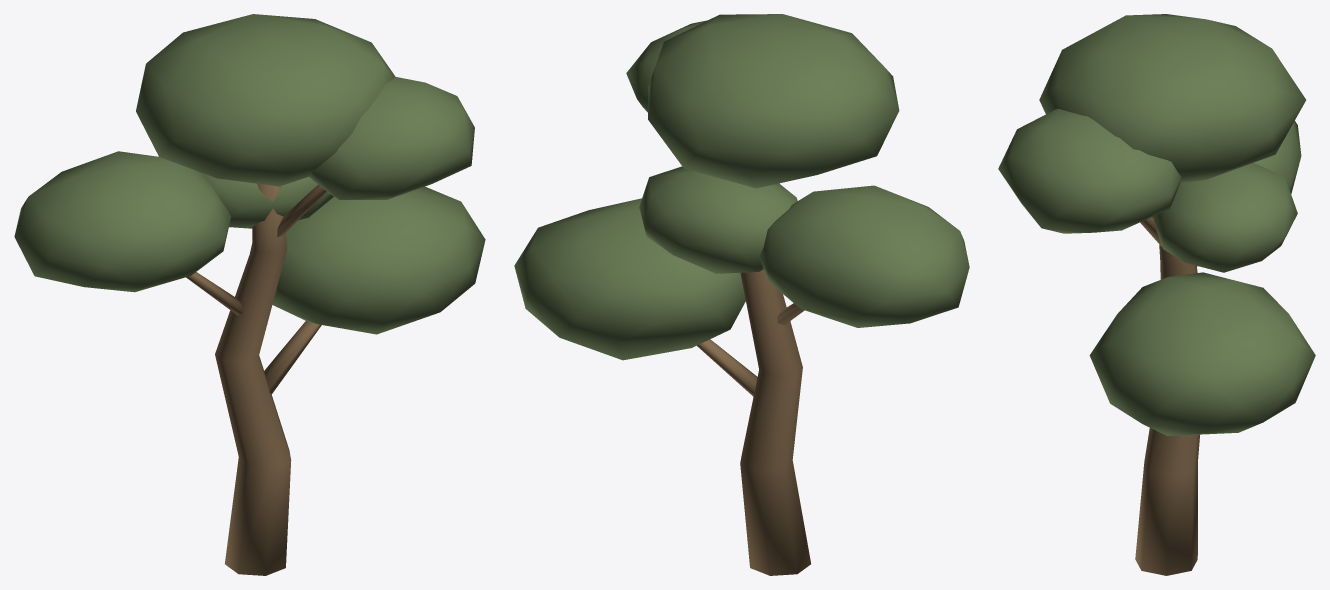
File: juniper.glb
3 renders of one model, left to right at view 1: azimuth 30°, elevation 25°; view 2: azimuth 150°, elevation 25°; view 3: azimuth 270°, elevation 25°, orthographic.
Parts seen in each view (by area): view 1: pad4, pad1, pad2, trunk, pad3, pad5, br1, br2, br3; view 2: pad4, pad1, pad2, trunk, pad5, pad3, br1; view 3: pad4, pad1, pad3, pad5, trunk, pad2.
Boxes of the visible parts, x1=… form: pad4: x1=136, y1=14, x2=395, y2=186; pad1: x1=250, y1=186, x2=485, y2=334; pad2: x1=14, y1=151, x2=231, y2=292; trunk: x1=215, y1=183, x2=291, y2=575; pad3: x1=309, y1=76, x2=474, y2=199; pad5: x1=197, y1=171, x2=333, y2=228; br1: x1=264, y1=320, x2=321, y2=394; br2: x1=186, y1=272, x2=243, y2=315; br3: x1=277, y1=184, x2=326, y2=236; pad4: x1=648, y1=14, x2=899, y2=188; pad1: x1=514, y1=198, x2=745, y2=360; pad2: x1=759, y1=185, x2=969, y2=327; trunk: x1=740, y1=183, x2=810, y2=575; pad5: x1=639, y1=166, x2=797, y2=273; pad3: x1=626, y1=20, x2=707, y2=112; br1: x1=697, y1=339, x2=757, y2=396; pad4: x1=1039, y1=14, x2=1305, y2=183; pad1: x1=1089, y1=272, x2=1315, y2=435; pad3: x1=998, y1=108, x2=1181, y2=233; pad5: x1=1152, y1=162, x2=1297, y2=272; trunk: x1=1135, y1=244, x2=1199, y2=575; pad2: x1=1254, y1=121, x2=1301, y2=193.
Bounding box in the file's own units: 2.22 × 2.57 × 1.39.
